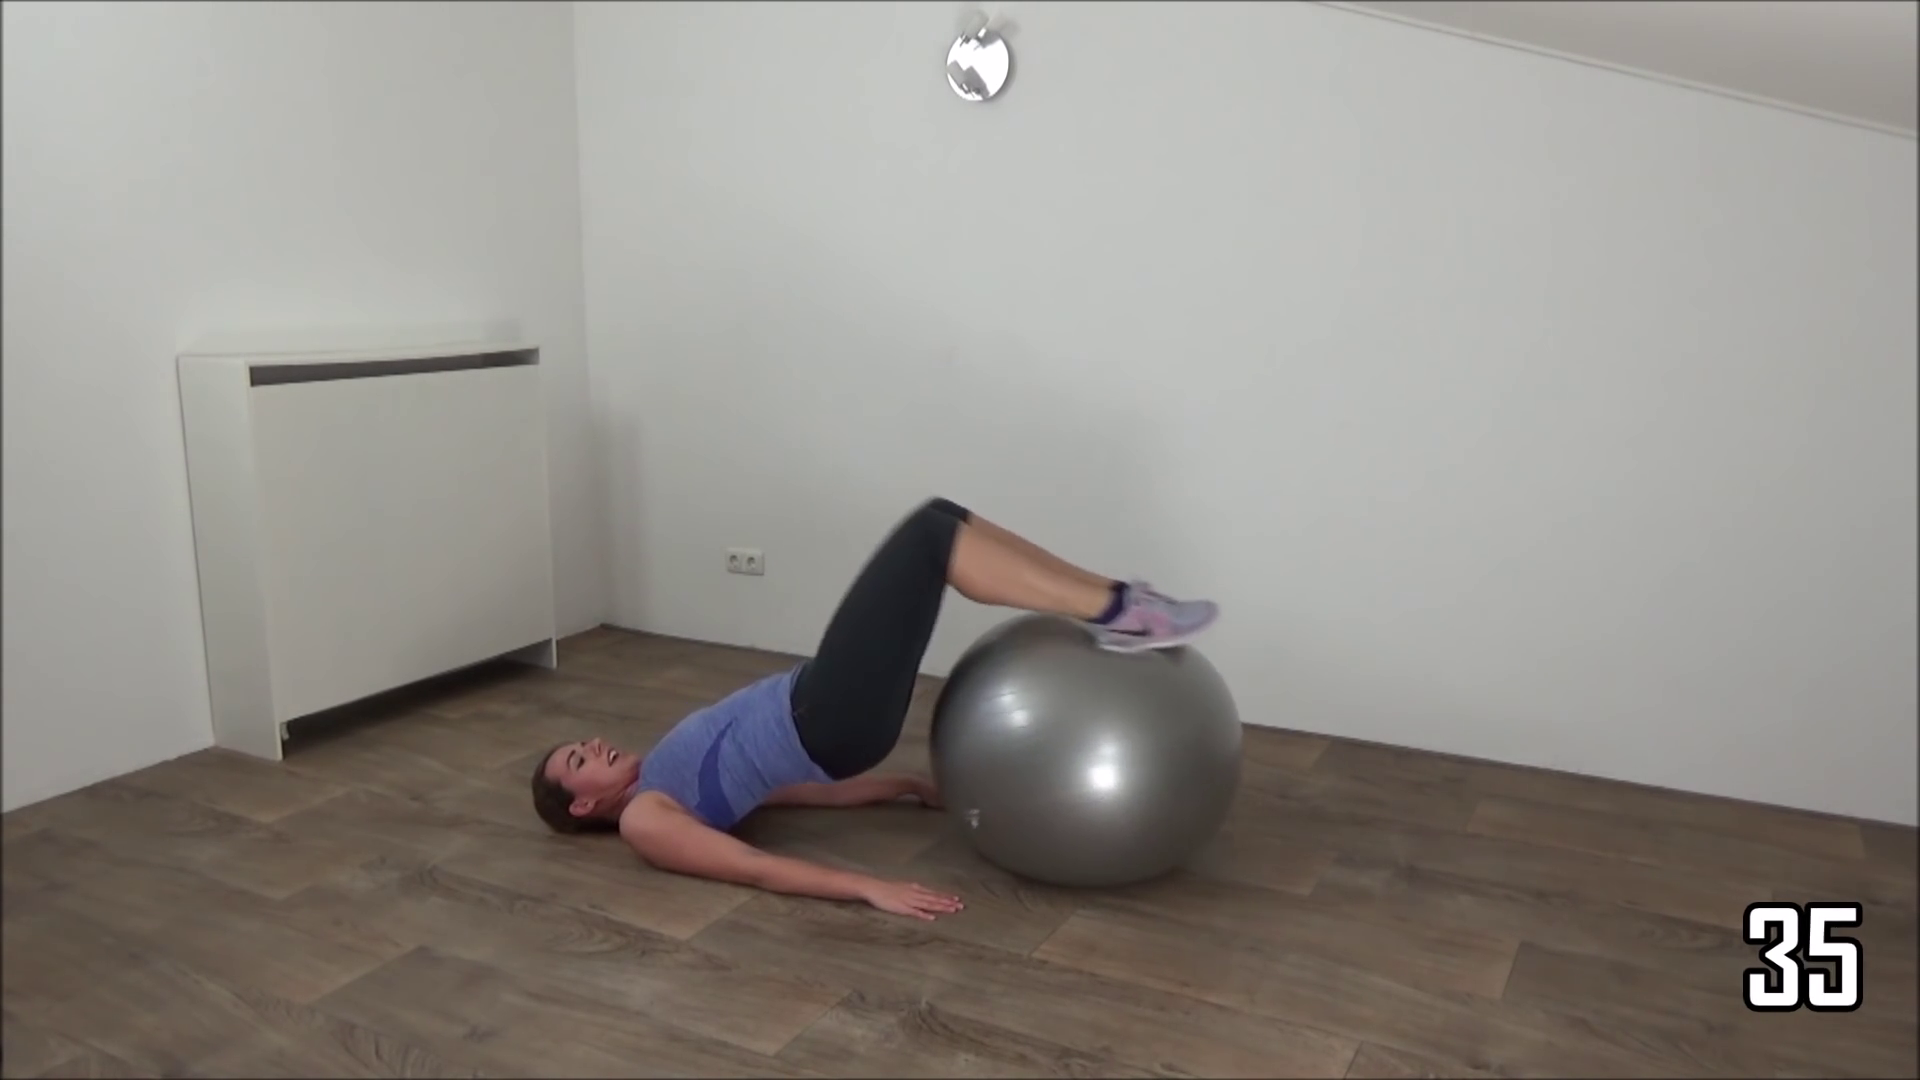yogaball: (903, 597, 1249, 903)
